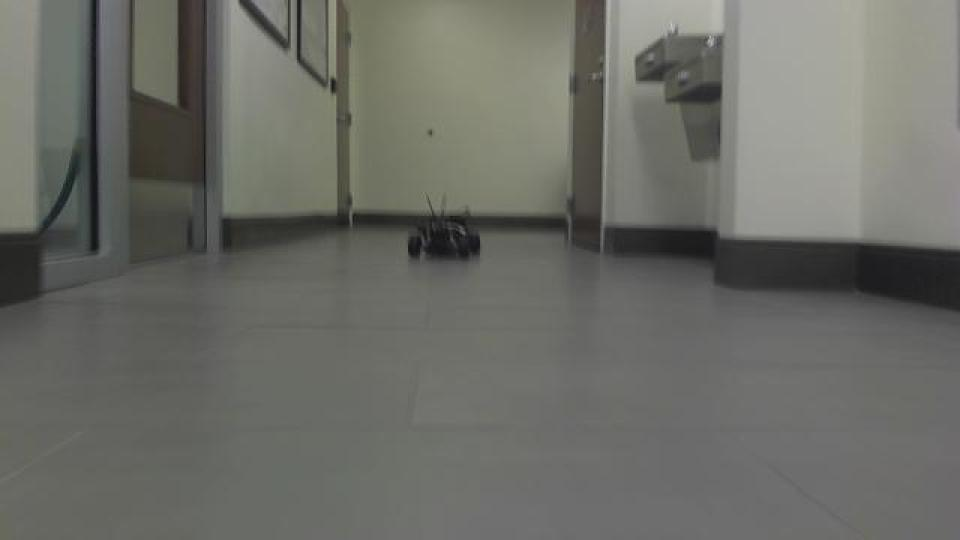car: (402, 189, 483, 264)
